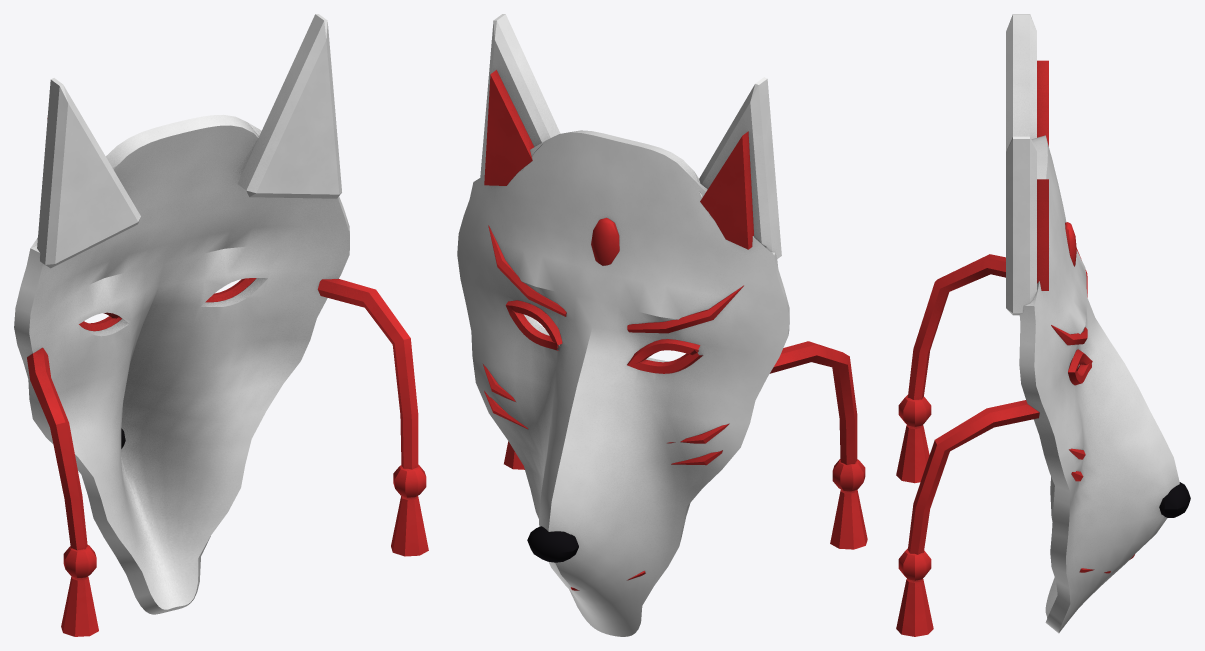
Rendered from mask_kitsune.fbx.
The picture shows the model from 3 angles, left to right: view 1: azimuth 30°, elevation 25°; view 2: azimuth 150°, elevation 25°; view 3: azimuth 270°, elevation 25°; orthographic projection. The views are drawn at different scales.
Visible parts, largest first — view 1: mask_kitsune; view 2: mask_kitsune; view 3: mask_kitsune.
Part boxes in pixels (x1,y1,x2,y2): mask_kitsune: (14,14,428,636); mask_kitsune: (457,14,867,636); mask_kitsune: (896,14,1190,636).
Size of the model in its own units: 117 by 178 by 86.07.
1 material, 1 textured.
